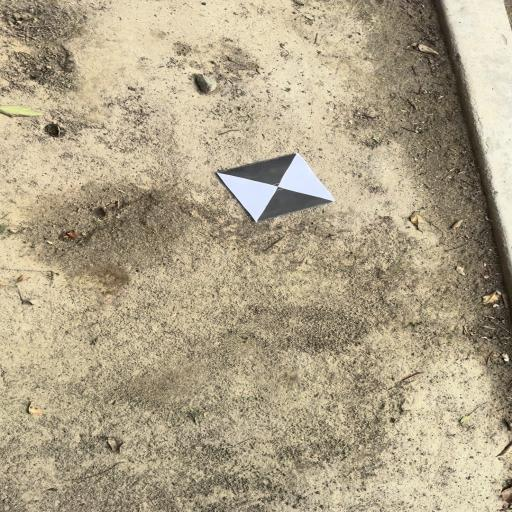target: (219, 154, 333, 220)
